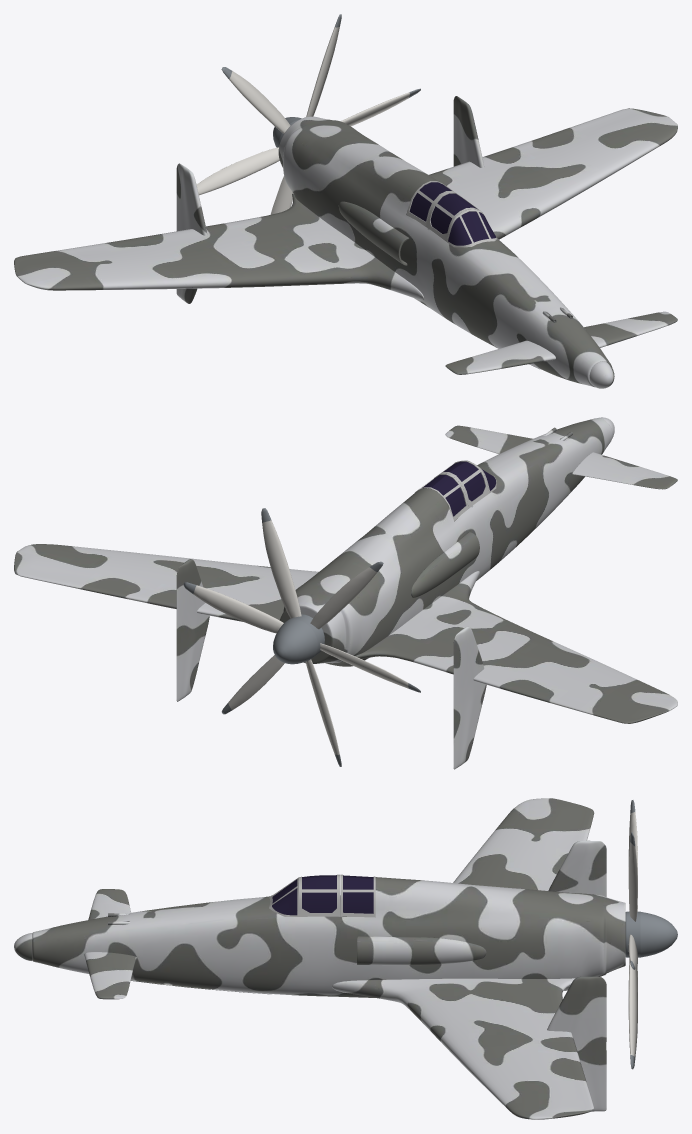
File: shinden.glb
3 renders of one model, top to bottom at view 1: azimuth 30°, elevation 25°; view 2: azimuth 150°, elevation 25°; view 3: azimuth 270°, elevation 25°, orthographic.
Visible parts, largest first — view 1: nose_cone, rear_propellor, cockpit_glass_mid, cockpit_mid; view 2: nose_cone, rear_propellor, cockpit_glass_mid, cockpit_mid; view 3: nose_cone, rear_propellor, cockpit_glass_mid, cockpit_mid.
Part boxes in pixels (x1=…): nose_cone: x1=14, y1=96, x2=677, y2=388; rear_propellor: x1=196, y1=14, x2=420, y2=214; cockpit_glass_mid: x1=409, y1=182, x2=495, y2=245; cockpit_mid: x1=406, y1=181, x2=496, y2=247; nose_cone: x1=14, y1=417, x2=677, y2=769; rear_propellor: x1=183, y1=508, x2=420, y2=766; cockpit_glass_mid: x1=422, y1=461, x2=495, y2=516; cockpit_mid: x1=415, y1=460, x2=496, y2=520; nose_cone: x1=14, y1=798, x2=625, y2=1119; rear_propellor: x1=625, y1=800, x2=677, y2=1069; cockpit_glass_mid: x1=272, y1=875, x2=373, y2=915; cockpit_mid: x1=269, y1=874, x2=375, y2=917.
Size of the model in its own units: 11.09 by 3.91 by 9.73.
Materials: 5 (1 with a texture image).
